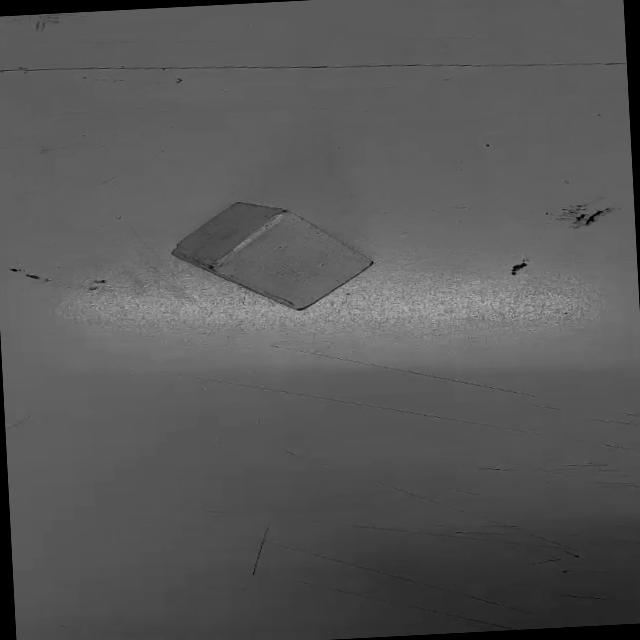ytriangle: (165, 193, 379, 318)
